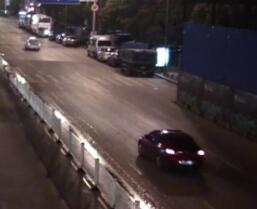bus: (31, 14, 53, 33)
car: (132, 125, 206, 177), (87, 32, 114, 54), (96, 42, 120, 61), (21, 36, 42, 51)
